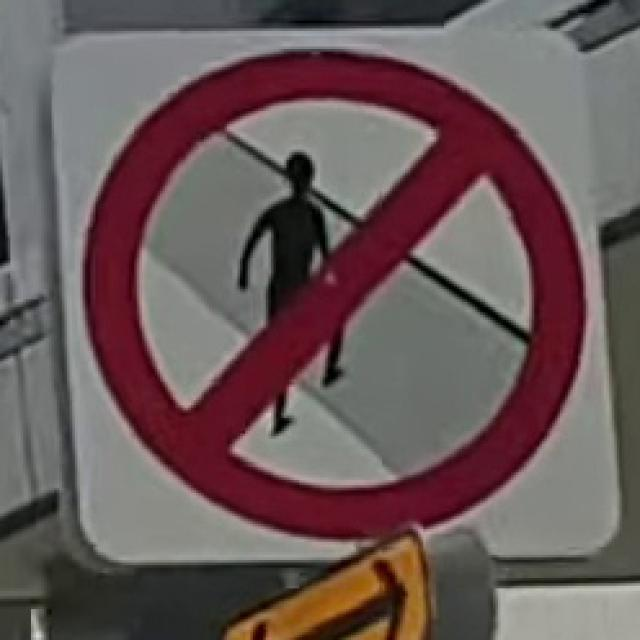nojaywalking_sign: (49, 26, 619, 565)
